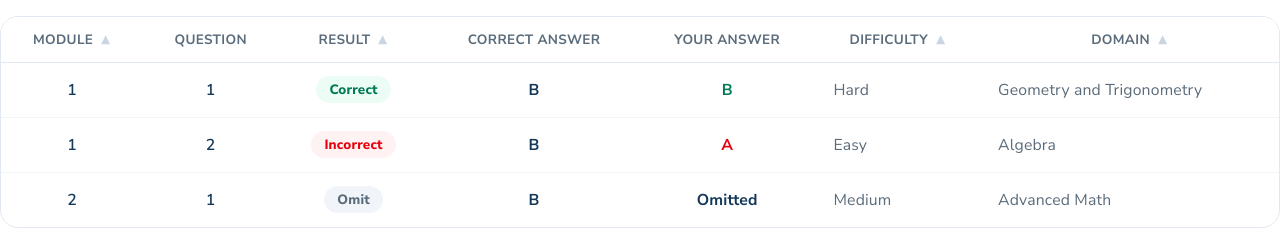
Test: QuestionDetailsTable › highlights active sort header
Click the button "Domain": (1130, 40) top-left (1091, 30), bottom-right (1168, 48)
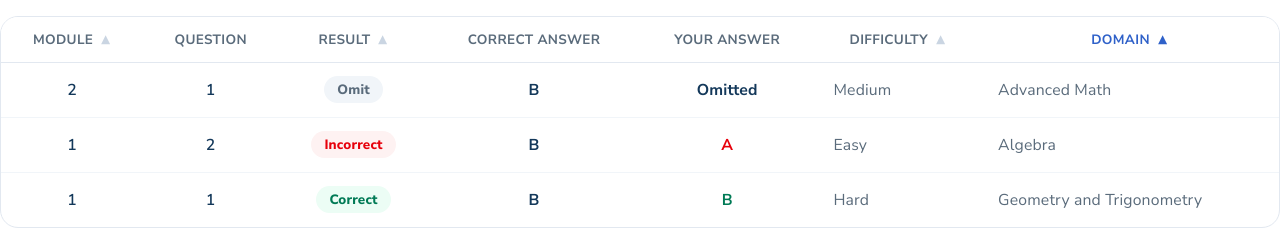
Expected: the button "Domain" has class "text-[#2f61c9]", top-left (1091, 30), bottom-right (1168, 48)
